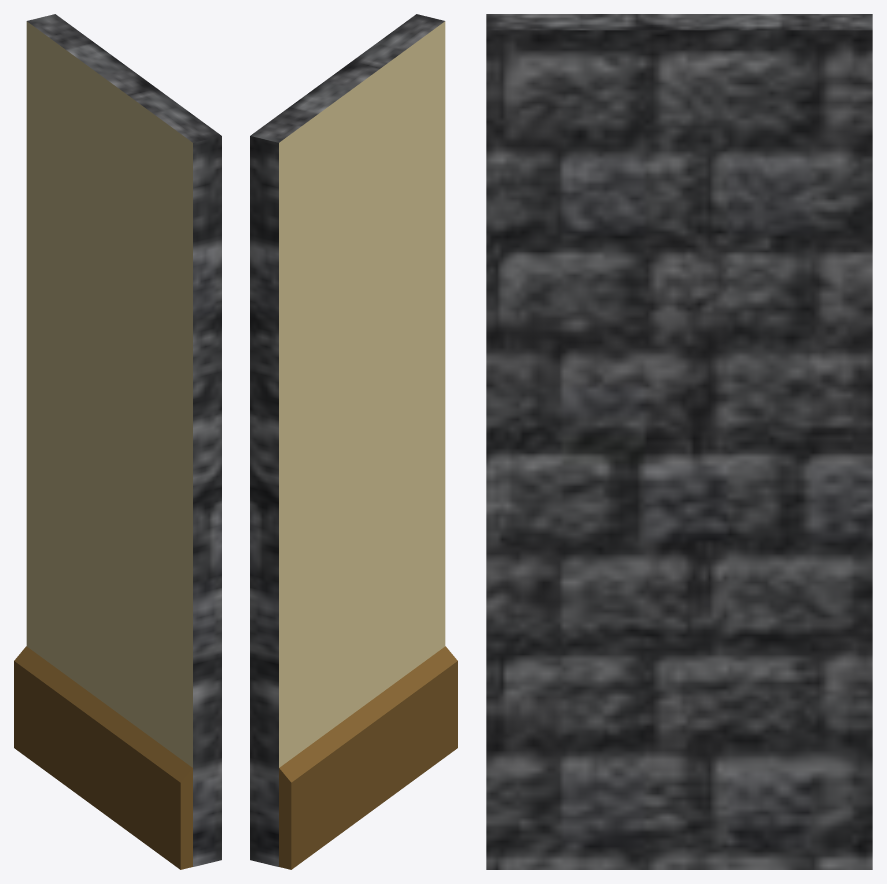
The model's file is kit_Wall_stone_1tile.glb.
The picture shows the model from 3 angles, left to right: view 1: azimuth 30°, elevation 25°; view 2: azimuth 150°, elevation 25°; view 3: azimuth 270°, elevation 25°; orthographic projection. The views are drawn at different scales.
Visible parts, largest first — view 1: wall; view 2: wall; view 3: wall.
Part boxes in pixels (bbox=[...]): wall: bbox=[14, 14, 221, 869]; wall: bbox=[250, 14, 457, 869]; wall: bbox=[486, 14, 872, 869].
Size of the model in its own units: 0.1431 by 2.4 by 1.
Materials: 3 (1 with a texture image).
